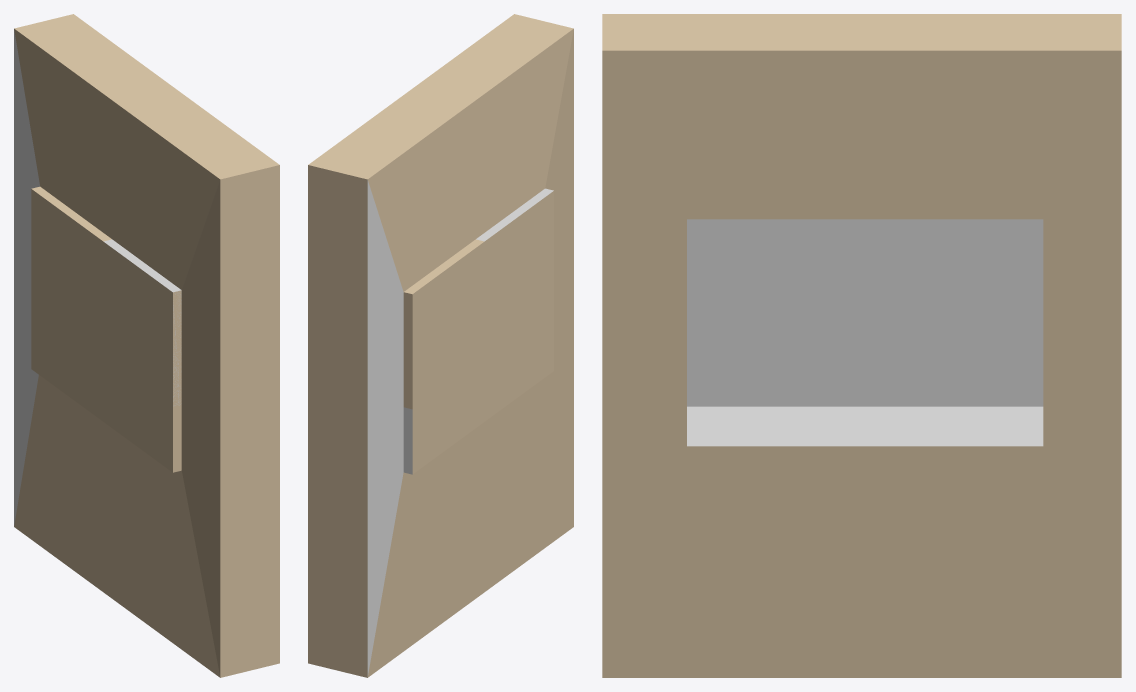
Rendered from WallDisplay.fbx.
The picture shows the model from 3 angles, left to right: view 1: azimuth 30°, elevation 25°; view 2: azimuth 150°, elevation 25°; view 3: azimuth 270°, elevation 25°; orthographic projection. The views are drawn at different scales.
Visible parts, largest first — view 1: WallDisplay; view 2: WallDisplay; view 3: WallDisplay.
Part boxes in pixels (x1,y1,x2,y2): WallDisplay: [14, 14, 279, 677]; WallDisplay: [308, 14, 573, 677]; WallDisplay: [602, 14, 1121, 677].
Size of the model in its own units: 37.57 by 183 by 244.
